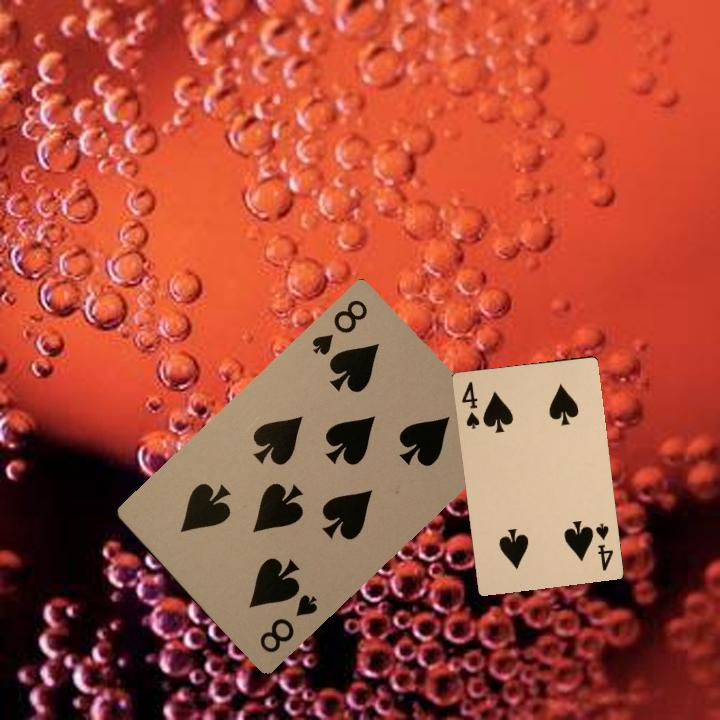4s: (592, 519, 616, 573), (458, 378, 482, 431)
8s: (255, 589, 320, 655), (307, 295, 370, 358)
